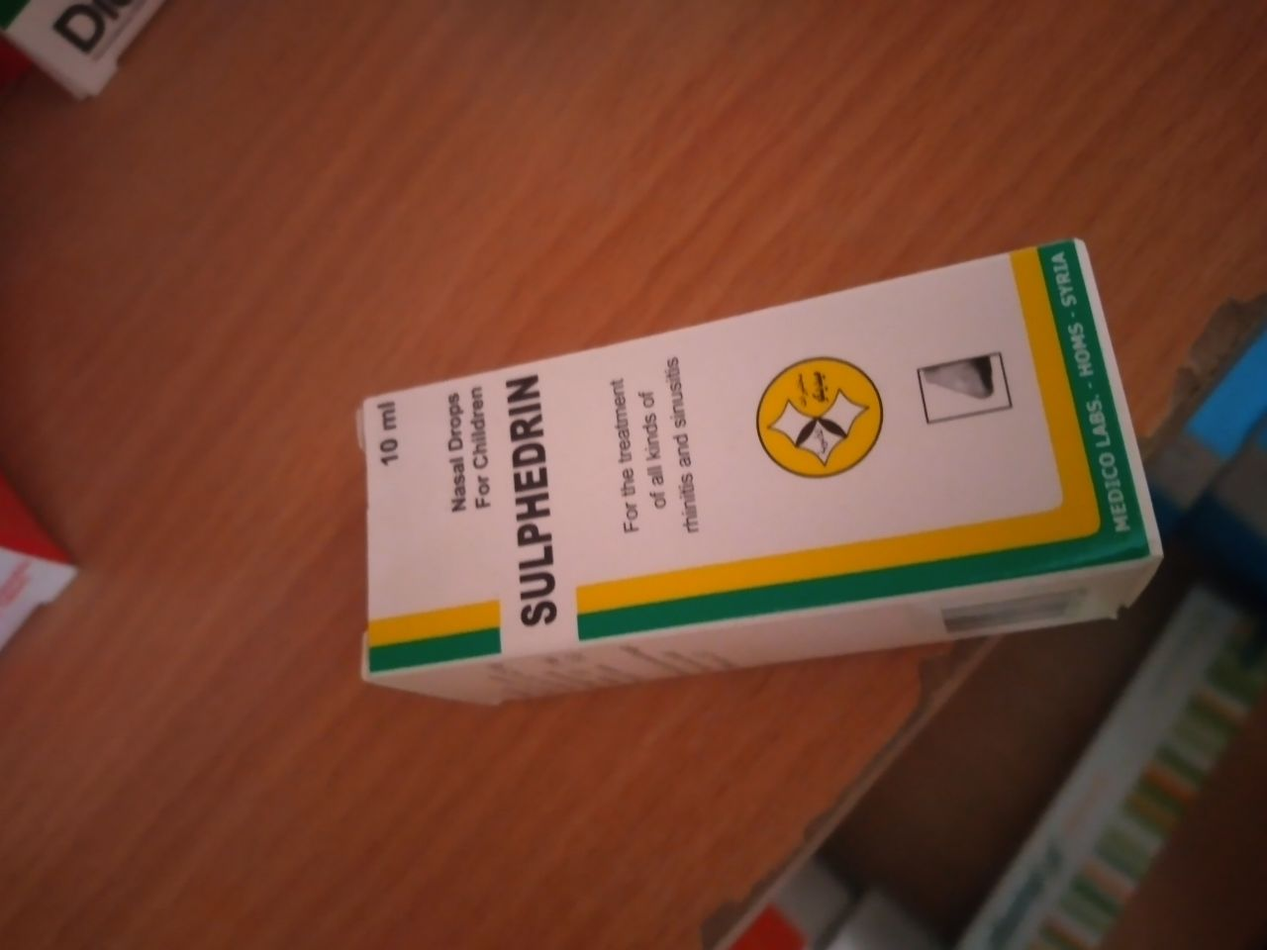Medicine: (341, 230, 1173, 722)
